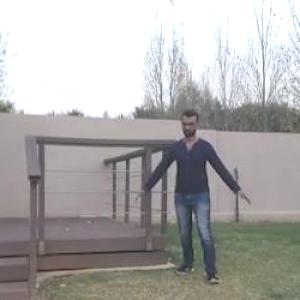land: (131, 97, 252, 299)
